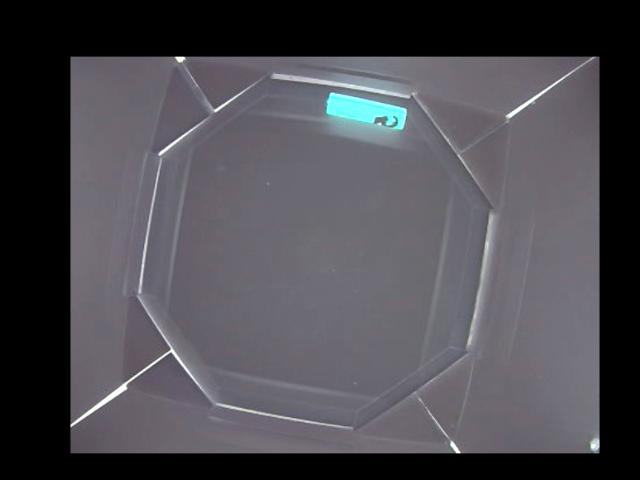Battery: (326, 92, 407, 128)
